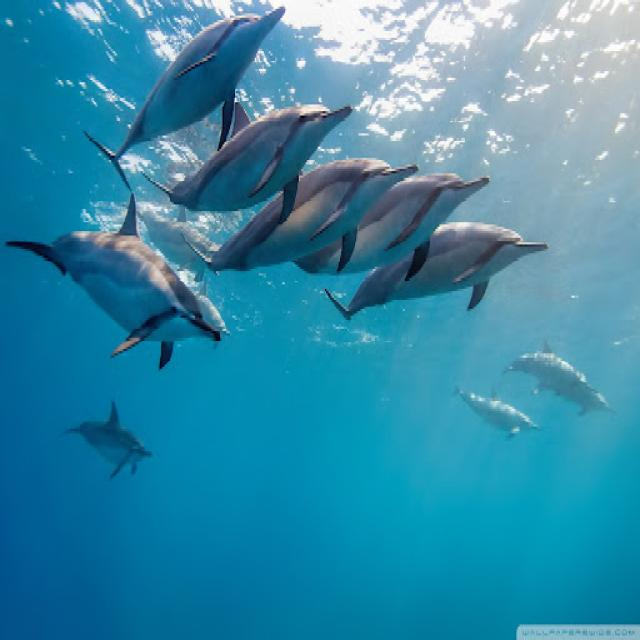dolphin: (28, 209, 230, 380), (83, 5, 295, 114), (189, 74, 359, 175)
